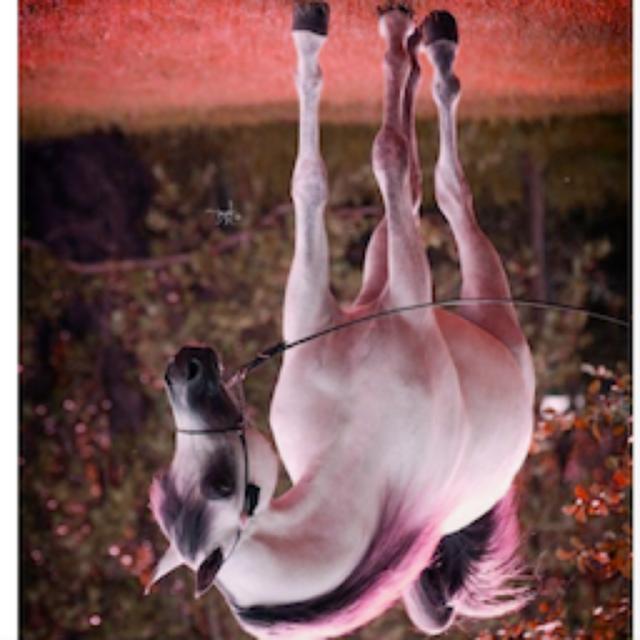Horse: (140, 2, 545, 640)
